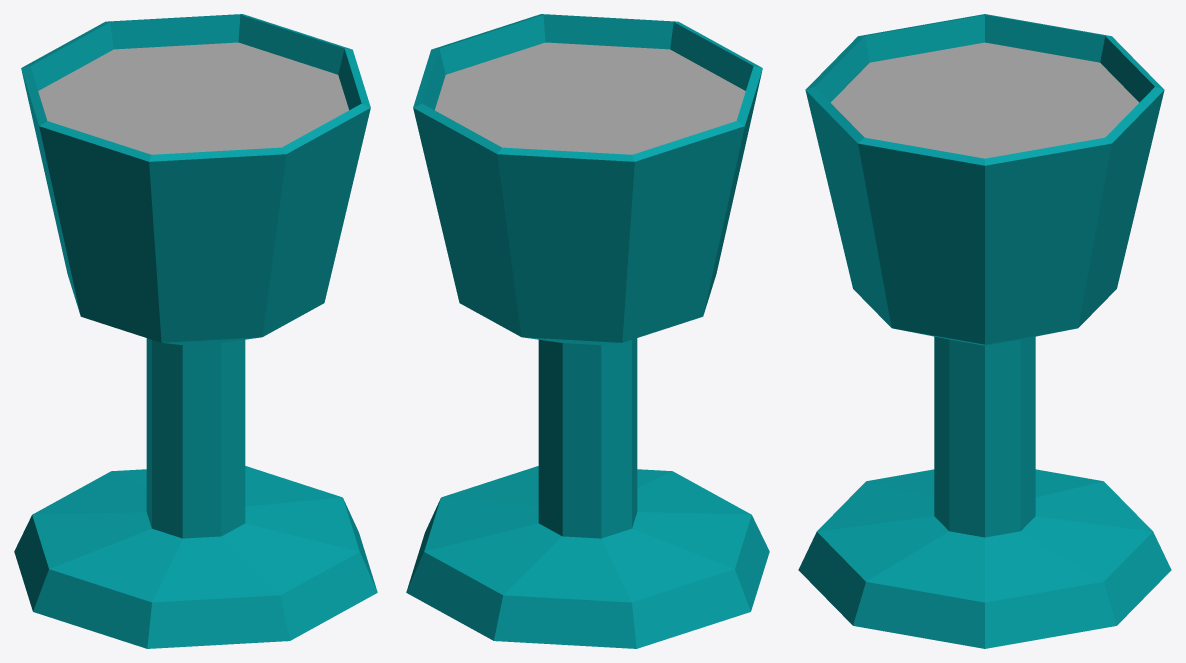
The model's file is WineGlass1.fbx.
3 views of the same model, side by side, from view 1: azimuth 30°, elevation 25°; view 2: azimuth 150°, elevation 25°; view 3: azimuth 270°, elevation 25° (orthographic).
Visible parts, largest first — view 1: WineGlass1, LiquidFull; view 2: WineGlass1, LiquidFull; view 3: WineGlass1, LiquidFull.
Boxes of the visible parts, x1=… form: WineGlass1: x1=14, y1=14, x2=377, y2=648; LiquidFull: x1=38, y1=42, x2=348, y2=154; WineGlass1: x1=406, y1=14, x2=769, y2=648; LiquidFull: x1=435, y1=42, x2=745, y2=154; WineGlass1: x1=798, y1=14, x2=1171, y2=648; LiquidFull: x1=830, y1=42, x2=1139, y2=158.
Bounding box in the file's own units: 0.2 × 0.2857 × 0.2.
